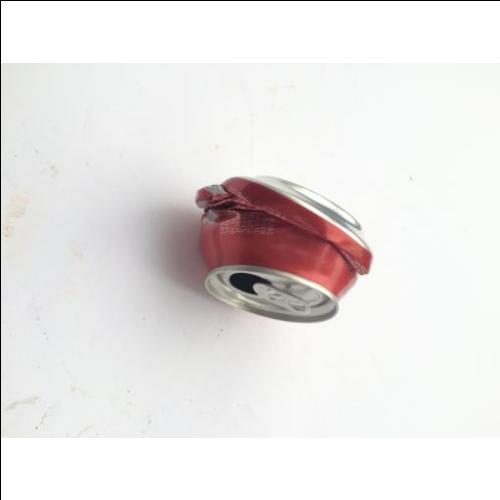metal: (196, 176, 371, 321)
